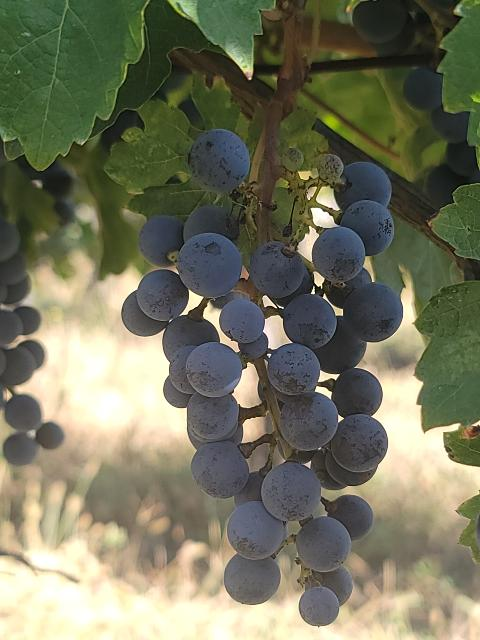grapes: (122, 129, 402, 626)
